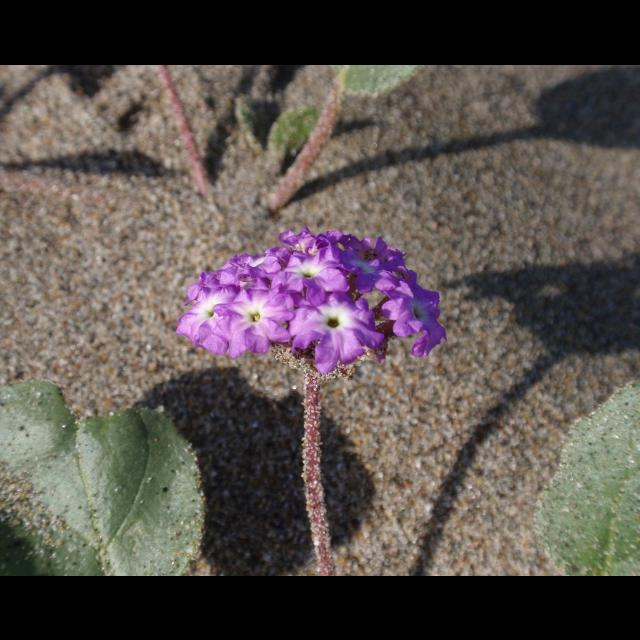Flower: (170, 227, 454, 376)
